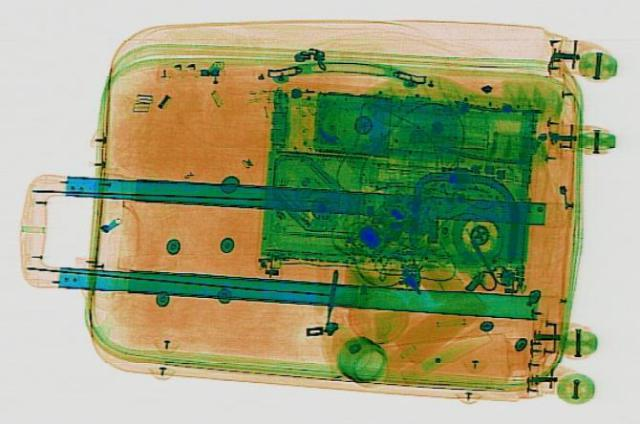Scissors: (450, 227, 518, 290)
